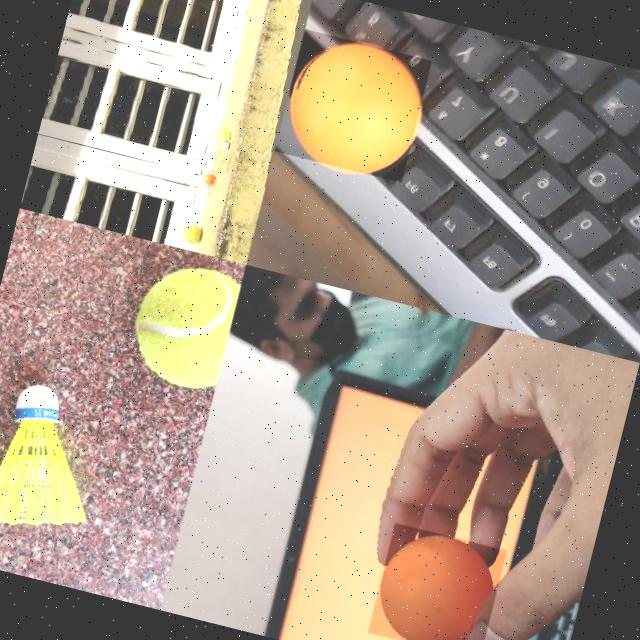ping-pong-ball: (272, 29, 432, 183), (366, 522, 506, 640), (202, 173, 215, 185)
